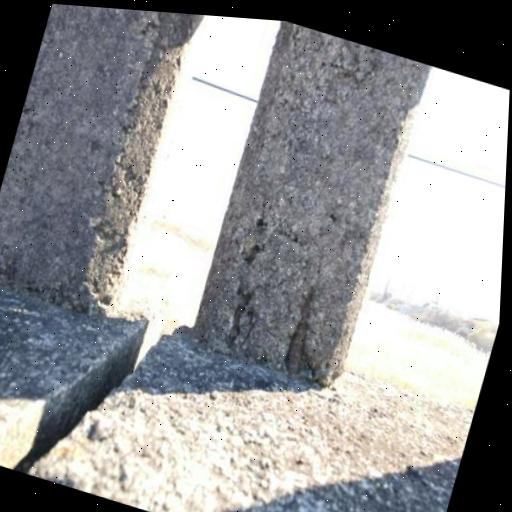exposed_rebar: (285, 292, 313, 374)
